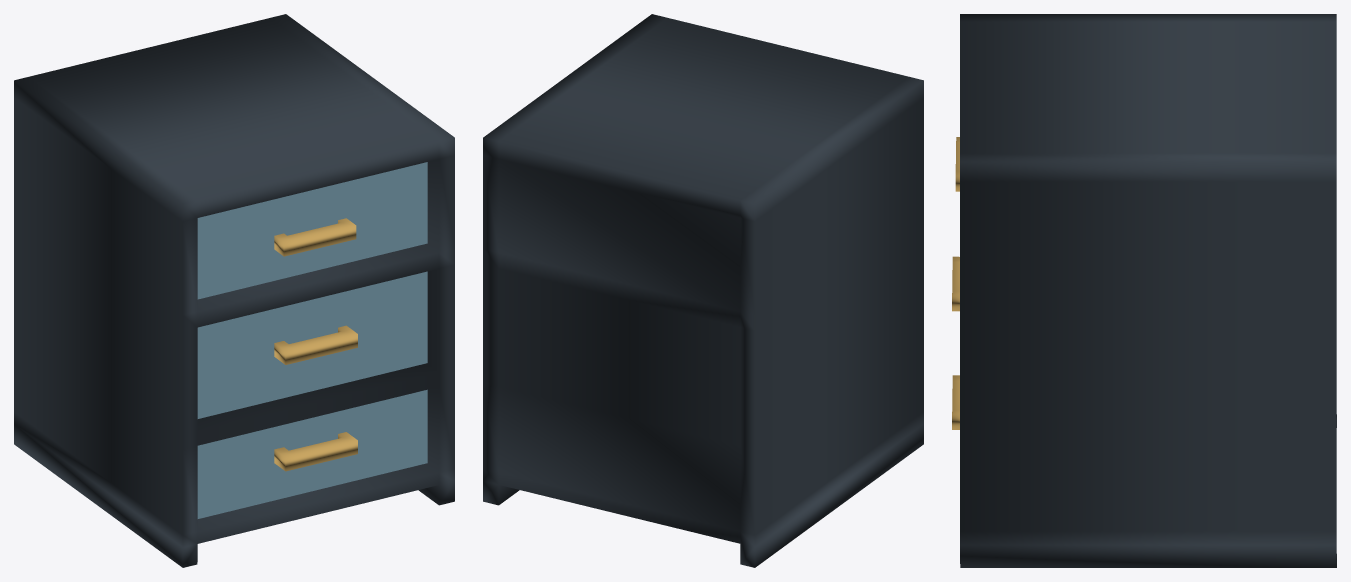
Rendered from drawer.gltf.
3 renders of one model, left to right at view 1: azimuth 30°, elevation 25°; view 2: azimuth 150°, elevation 25°; view 3: azimuth 270°, elevation 25°, orthographic. The views are drawn at different scales.
Parts seen in each view (by area): view 1: body, drawer2, drawer1, third drawer, third handle, second handle.001, first handle.001; view 2: body; view 3: body.
Boxes of the visible parts, left/top/right/bottom form: body: left=14, top=14, right=454, bottom=567; drawer2: left=197, top=271, right=427, bottom=418; drawer1: left=197, top=162, right=427, bottom=299; third drawer: left=197, top=389, right=427, bottom=518; third handle: left=274, top=432, right=357, bottom=471; second handle.001: left=274, top=325, right=357, bottom=364; first handle.001: left=274, top=218, right=356, bottom=256; body: left=483, top=14, right=923, bottom=567; body: left=960, top=14, right=1336, bottom=567.
Bounding box in the file's own units: 3.8 × 4.86 × 4.17.
